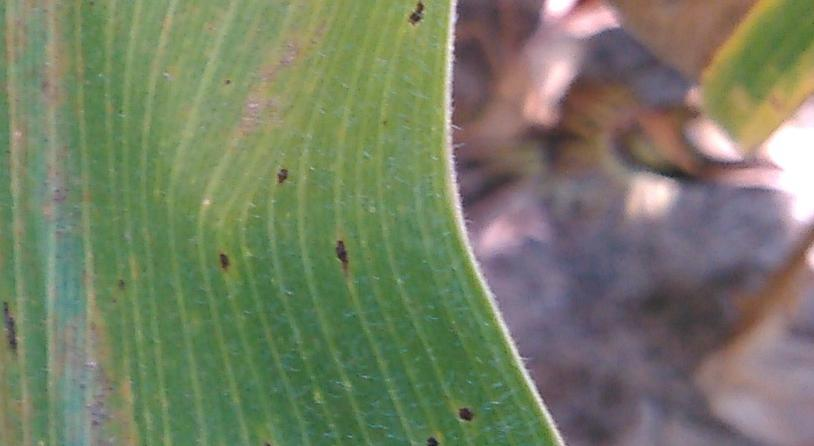tarspot: (1, 300, 18, 358), (334, 234, 351, 279), (404, 1, 425, 26), (455, 404, 477, 426), (217, 248, 231, 272), (274, 164, 289, 185), (114, 272, 128, 292), (218, 72, 232, 86), (424, 435, 439, 446)
